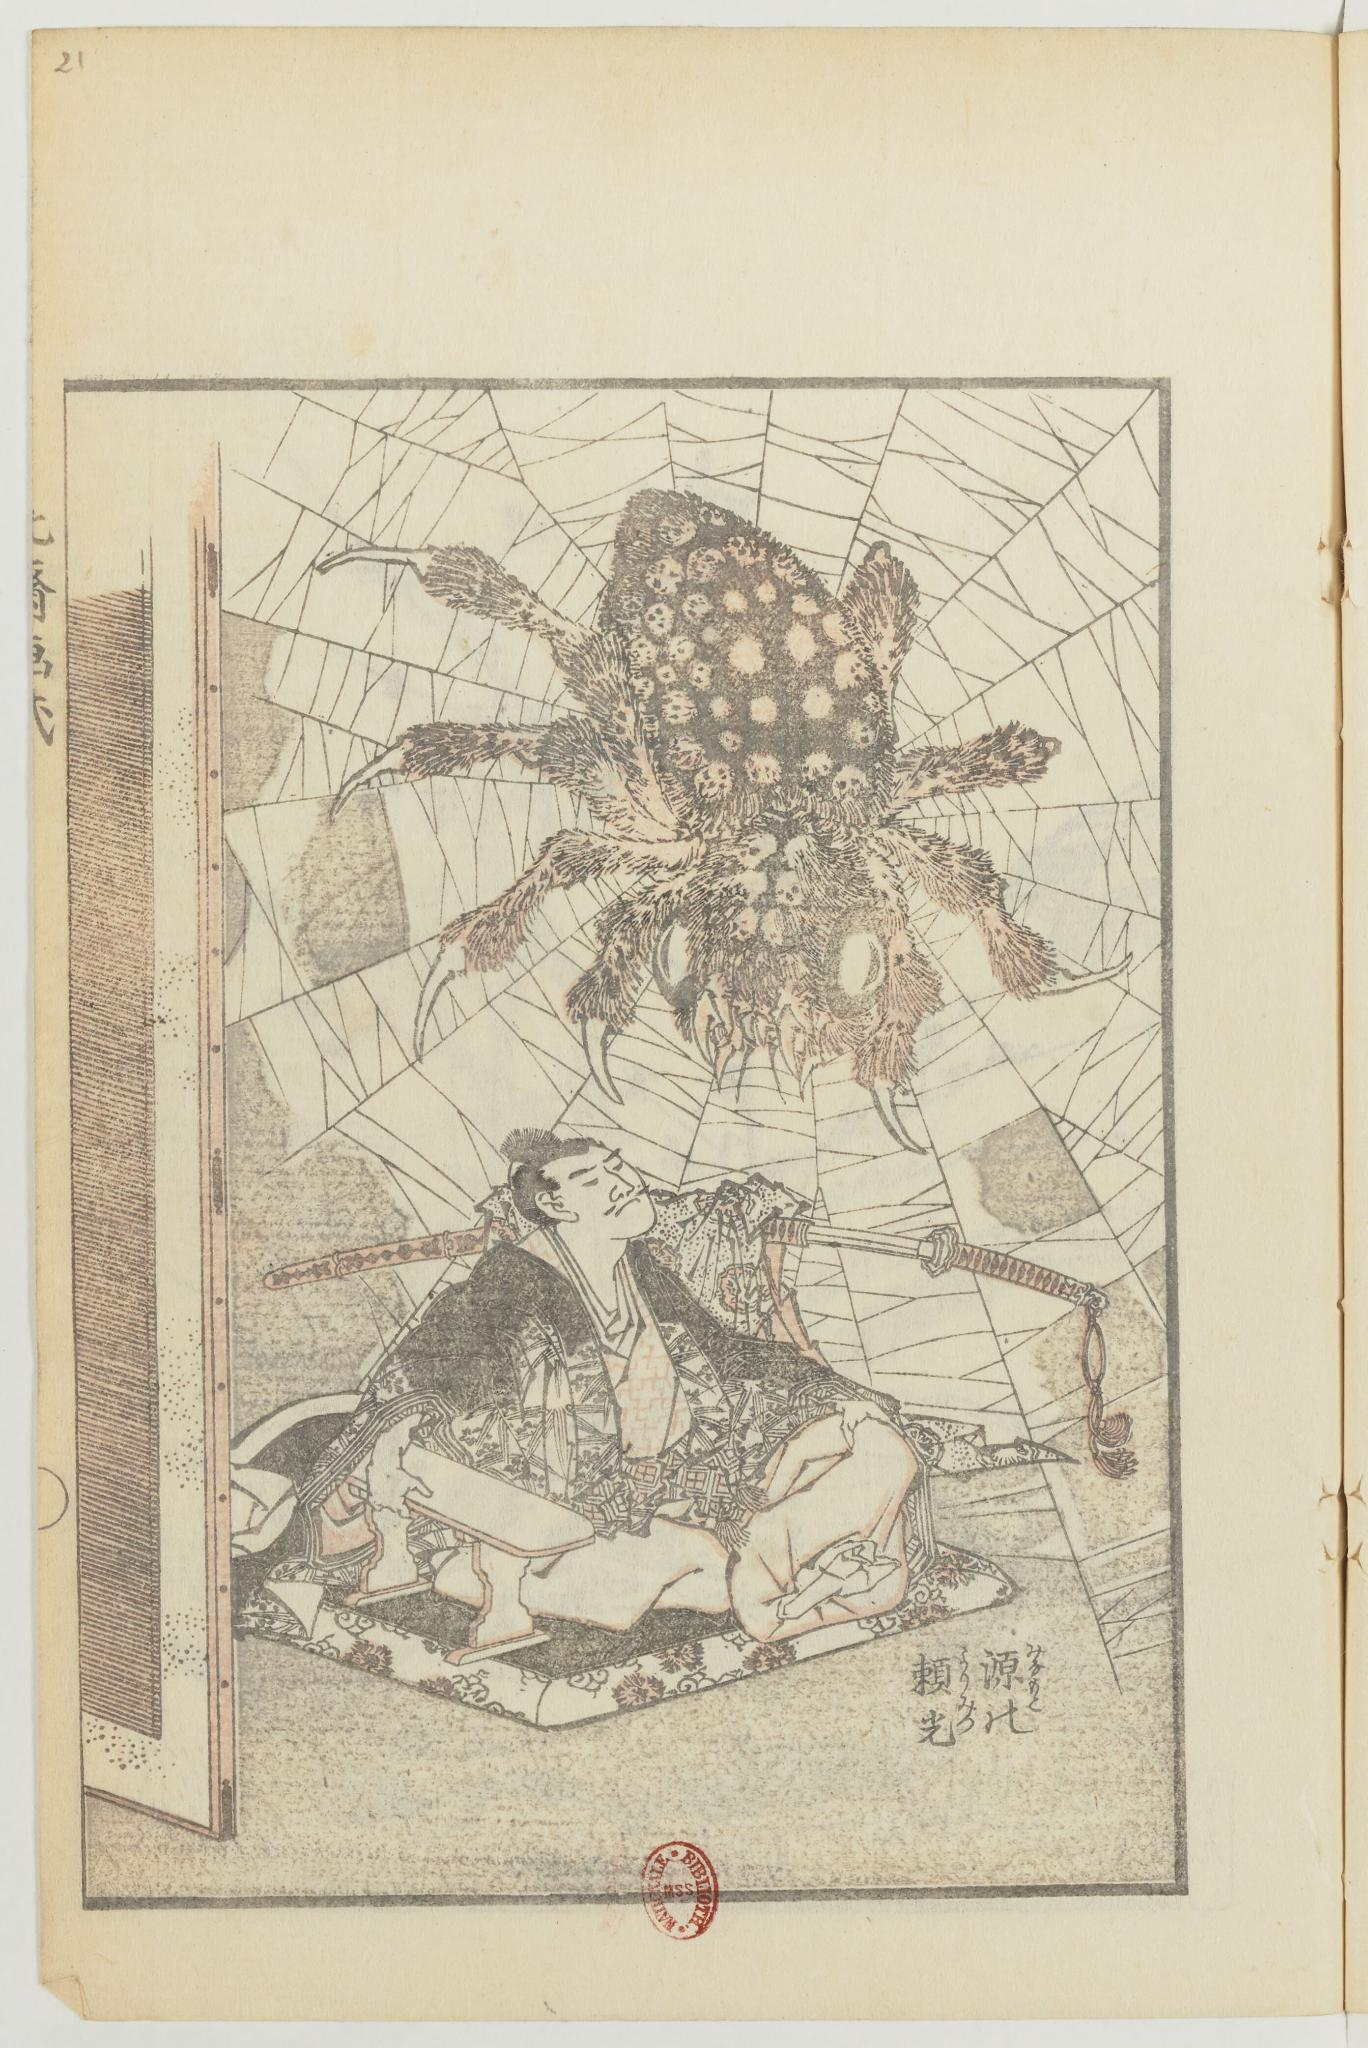MainZone-Character: (915, 1695, 982, 1747), (907, 1647, 977, 1695), (979, 1642, 1049, 1691), (982, 1694, 1053, 1741)
MainZone-Ruby: (1021, 1644, 1046, 1689), (954, 1695, 977, 1735), (954, 1647, 973, 1692), (1029, 1695, 1047, 1714)
